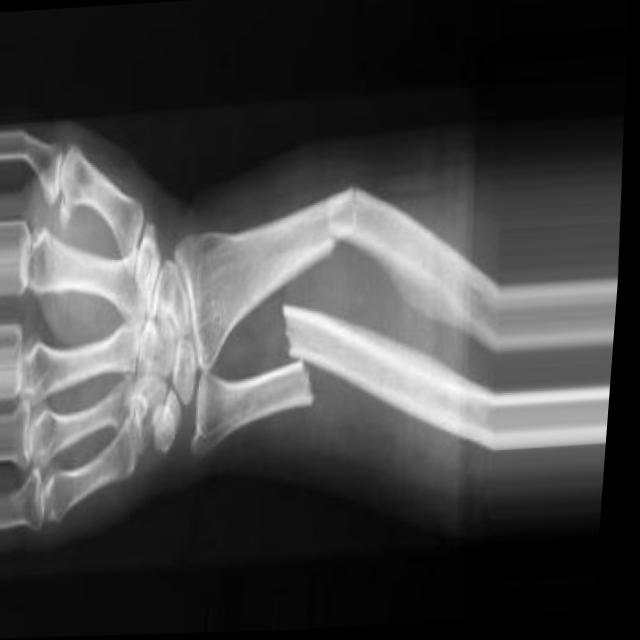fracture: (274, 290, 335, 426), (317, 150, 372, 267)
